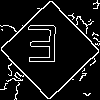E: (25, 25, 59, 72)
